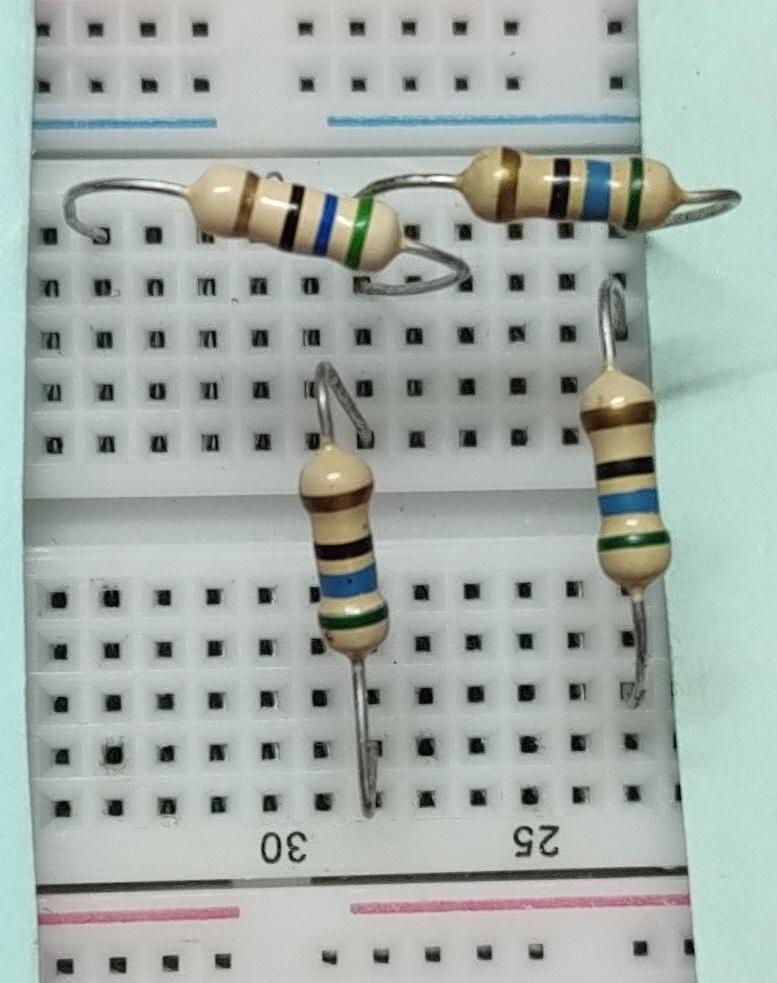resistor: (567, 345, 688, 614), (175, 159, 409, 278), (287, 437, 403, 663), (453, 145, 703, 236)
